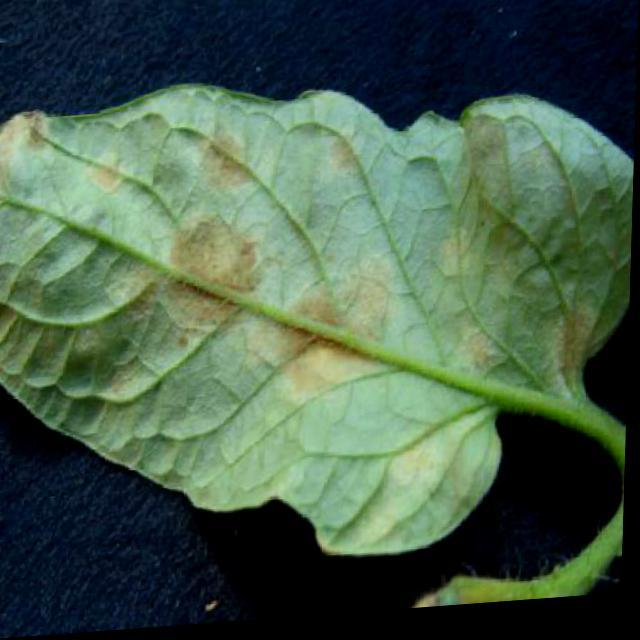Tomato mold leaf: (0, 46, 634, 602)
